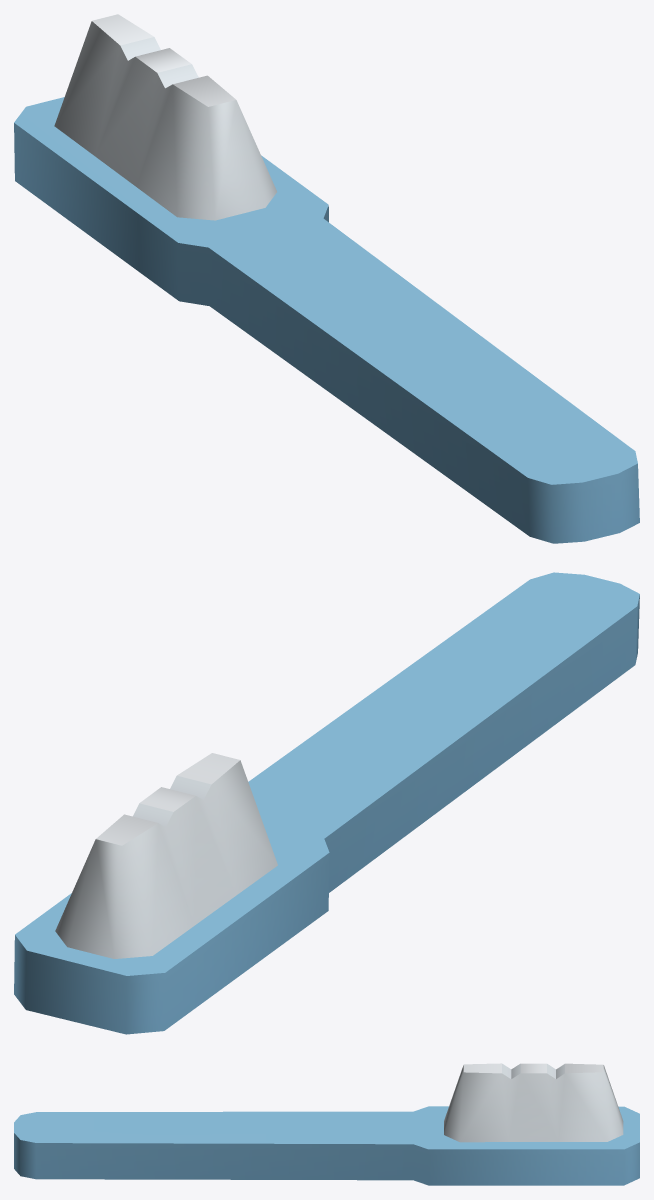
Rendered from Toothbrush Blue.glb.
3 views of the same model, one above another, from view 1: azimuth 30°, elevation 25°; view 2: azimuth 150°, elevation 25°; view 3: azimuth 270°, elevation 25° (orthographic). The views are drawn at different scales.
Visible parts, largest first — view 1: toothbrush_blue; view 2: toothbrush_blue; view 3: toothbrush_blue.
Boxes of the visible parts, left/top/right/bottom form: toothbrush_blue: left=14, top=14, right=639, bottom=543; toothbrush_blue: left=14, top=572, right=639, bottom=1034; toothbrush_blue: left=14, top=1063, right=639, bottom=1185.
Bounding box in the file's own units: 0.1 × 0.1 × 0.6.
1 material, 1 textured.
